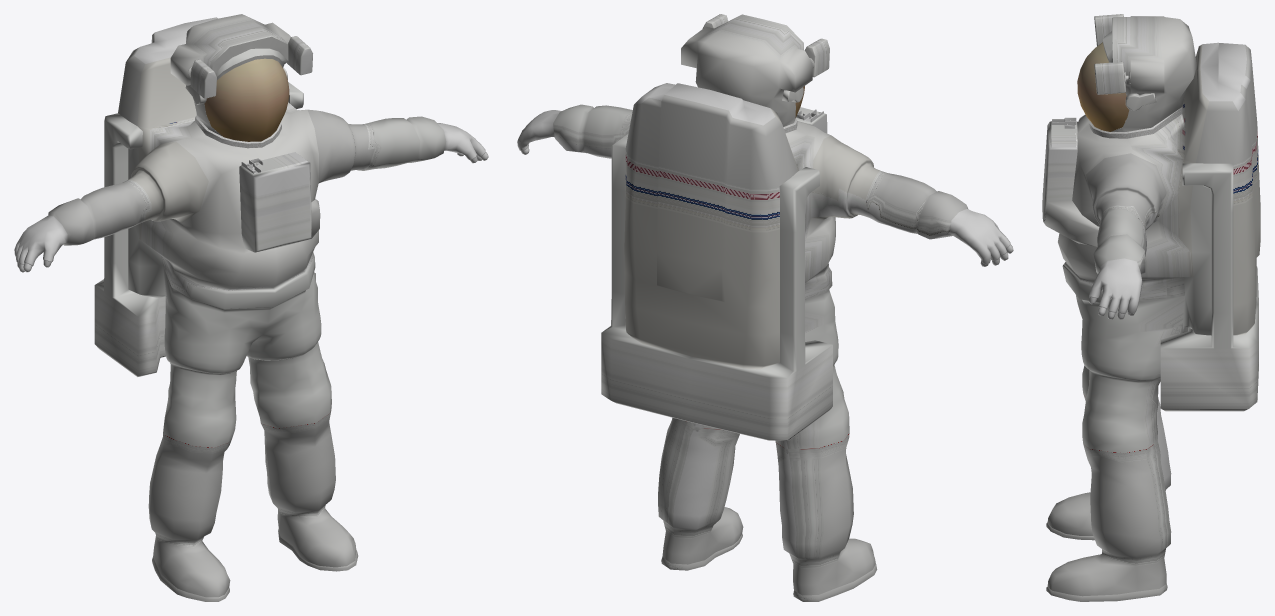
Rendered from astronaut.glb.
The picture shows the model from 3 angles, left to right: view 1: azimuth 30°, elevation 25°; view 2: azimuth 150°, elevation 25°; view 3: azimuth 270°, elevation 25°; orthographic projection. The views are drawn at different scales.
Visible parts, largest first — view 1: astronaut1; view 2: astronaut1; view 3: astronaut1.
Boxes of the visible parts, left/top/right/bottom form: astronaut1: left=14, top=14, right=488, bottom=601; astronaut1: left=517, top=14, right=1013, bottom=601; astronaut1: left=1042, top=14, right=1260, bottom=601.
Bounding box in the file's own units: 68.91 × 74.26 × 27.6.
2 materials, 2 textured.
